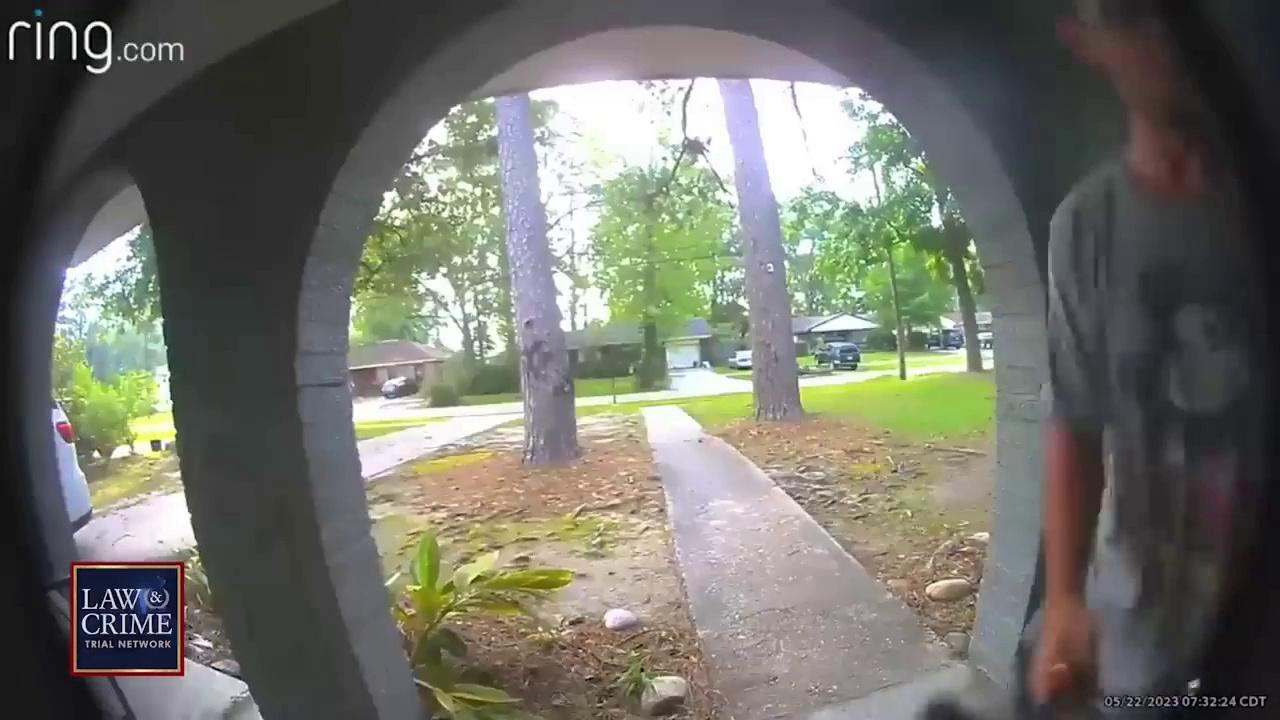suspicion: (968, 34, 1280, 720)
